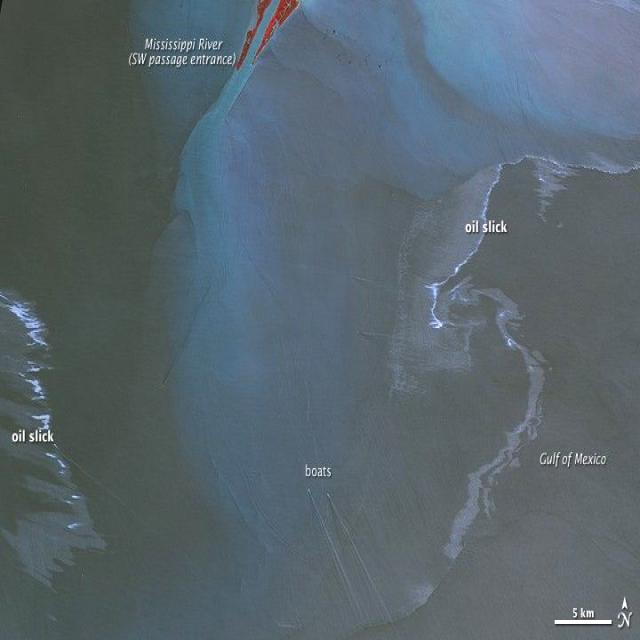oil spill: (390, 150, 583, 614), (0, 291, 105, 586)
